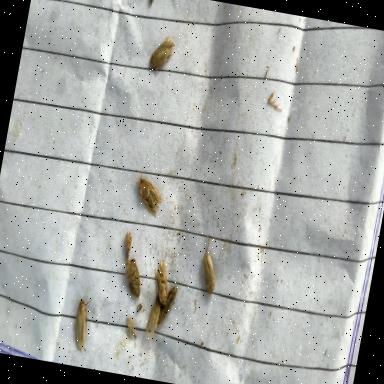pbw: (70, 298, 92, 354), (150, 260, 174, 308), (120, 257, 146, 299), (148, 36, 176, 74), (196, 253, 220, 295), (158, 282, 178, 328), (145, 293, 164, 340), (122, 316, 140, 342)
